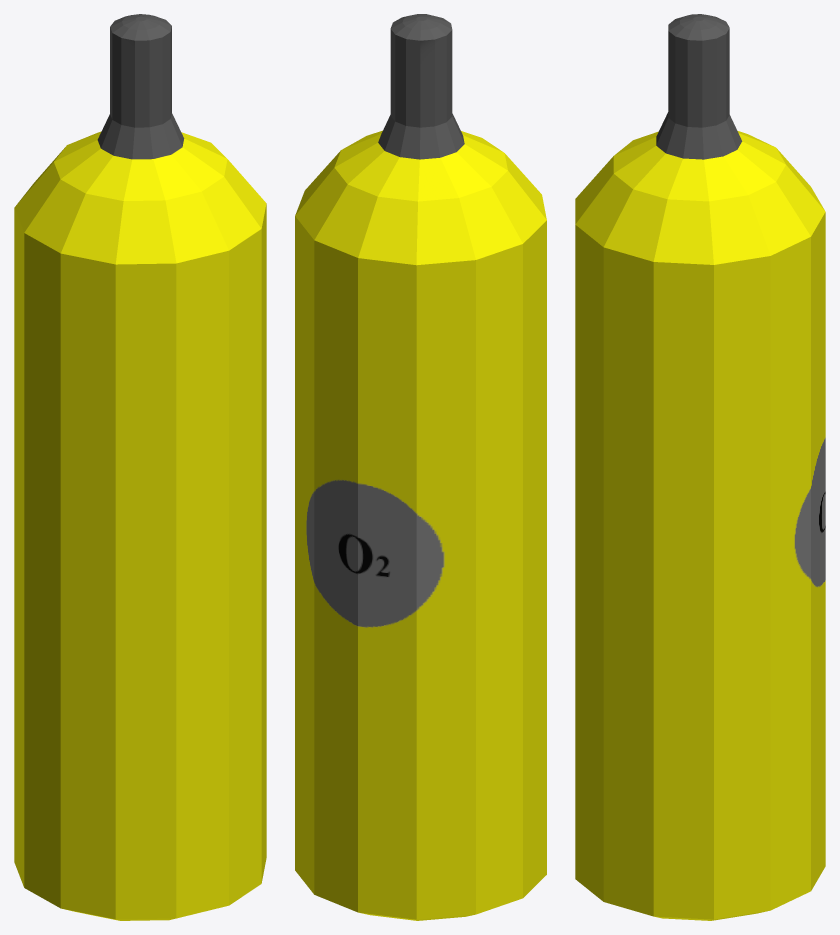
Rendered from Bouteille_d'oxygène.glb.
3 views of the same model, side by side, from view 1: azimuth 30°, elevation 25°; view 2: azimuth 150°, elevation 25°; view 3: azimuth 270°, elevation 25° (orthographic).
Parts seen in each view (by area): view 1: Cylinder; view 2: Cylinder; view 3: Cylinder.
Boxes of the visible parts, x1,y1,x2,y2 form: Cylinder: [14, 14, 266, 920]; Cylinder: [295, 14, 546, 920]; Cylinder: [575, 14, 825, 920].
Size of the model in its own units: 1.99 by 7.52 by 1.97.
Materials: 1 (1 with a texture image).
